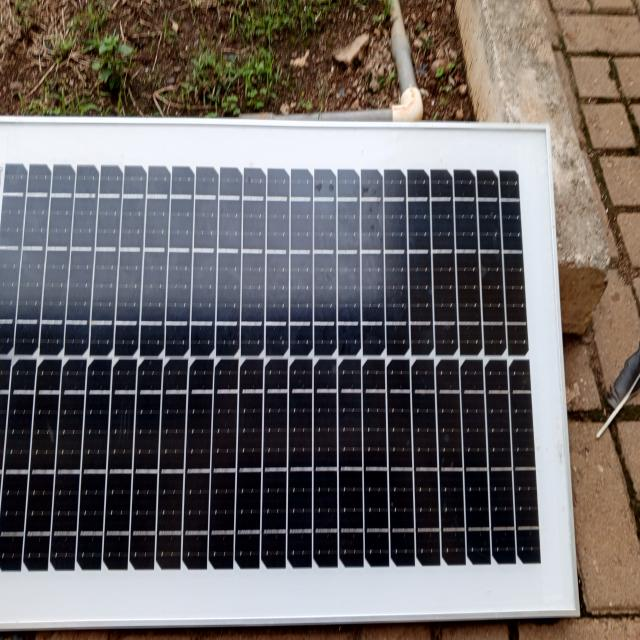Clean: (0, 151, 544, 598)
